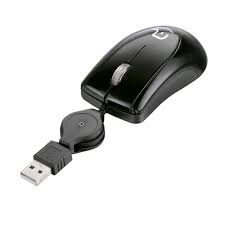mouse: (80, 23, 210, 125)
